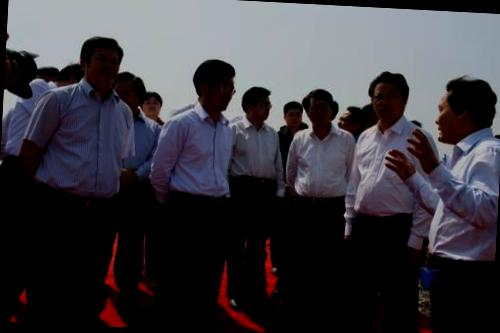no_helmet: (431, 70, 500, 141), (188, 55, 240, 115), (76, 31, 127, 88), (366, 67, 414, 125), (302, 84, 338, 128), (111, 68, 144, 114), (239, 84, 274, 126), (52, 60, 88, 100), (337, 101, 368, 138), (141, 90, 168, 122), (281, 99, 307, 130)
